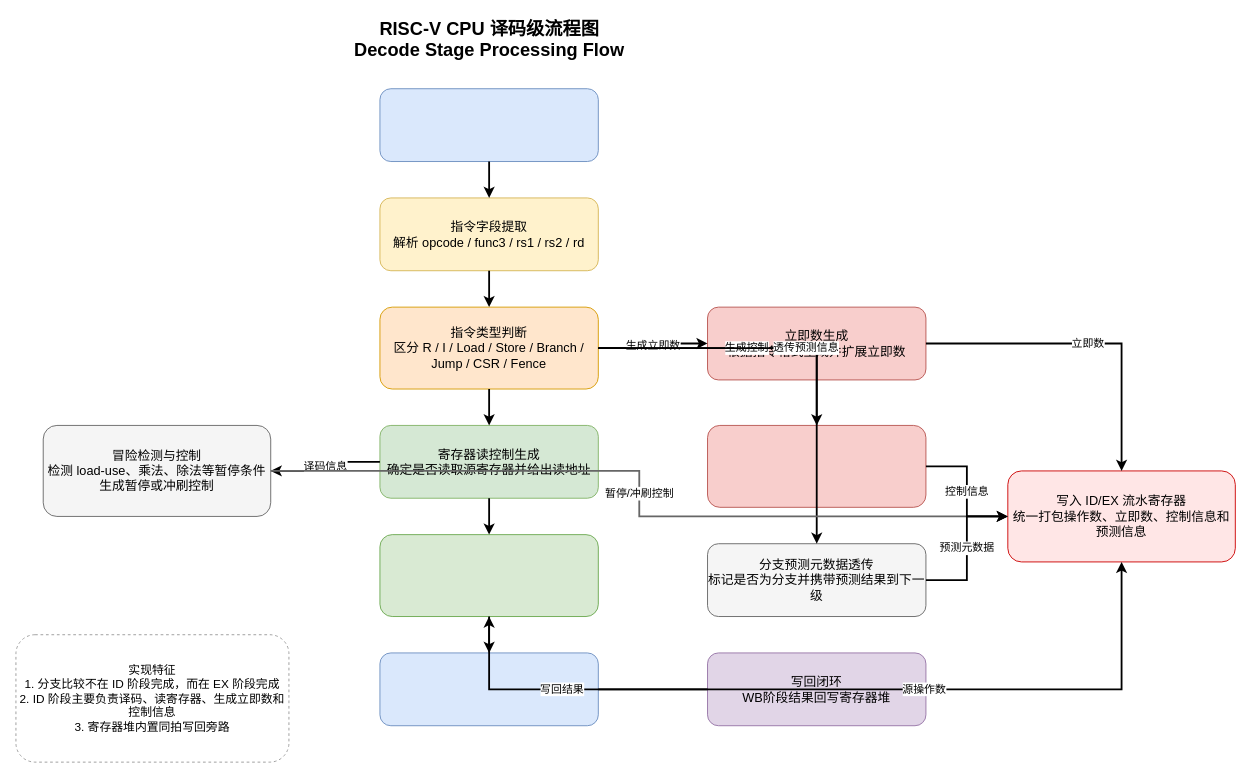
Some shapes in this 1251 by 778 pixel diagram are drawn without their labels. The box of each missing label's shape, as (x1, y1, x2, y2) in pixels:
IF/ID输入 接收取值级送来的指令、PC和预测元数据: (379, 88, 598, 162)
寄存器堆读取 双读单写结构 组合读，同拍写回旁路，x0恒为0: (379, 534, 598, 617)
执行控制生成 产生运算类型、写回控制、CSR控制、乘除法标志: (707, 425, 926, 507)
源操作数形成 获得两个源操作数并准备送往执行级: (379, 652, 598, 726)
